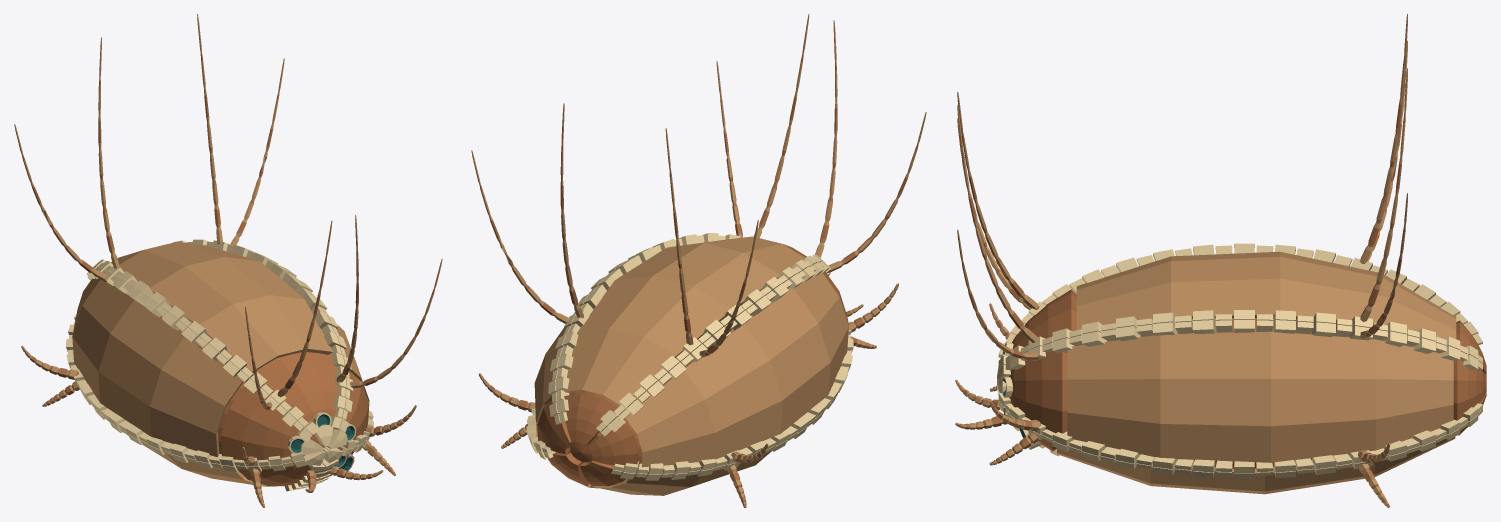
The model's file is eleutherocrinus.glb.
The picture shows the model from 3 angles, left to right: view 1: azimuth 30°, elevation 25°; view 2: azimuth 150°, elevation 25°; view 3: azimuth 270°, elevation 25°; orthographic projection. The views are drawn at different scales.
Visible parts, largest first — view 1: eleutherocrinus-original-organism; view 2: eleutherocrinus-original-organism; view 3: eleutherocrinus-original-organism.
Boxes of the visible parts, bbox=[...] form: eleutherocrinus-original-organism: bbox=[14, 14, 442, 507]; eleutherocrinus-original-organism: bbox=[471, 14, 926, 507]; eleutherocrinus-original-organism: bbox=[955, 14, 1486, 507].
Size of the model in its own units: 0.0135 by 0.0178 by 0.0197.
